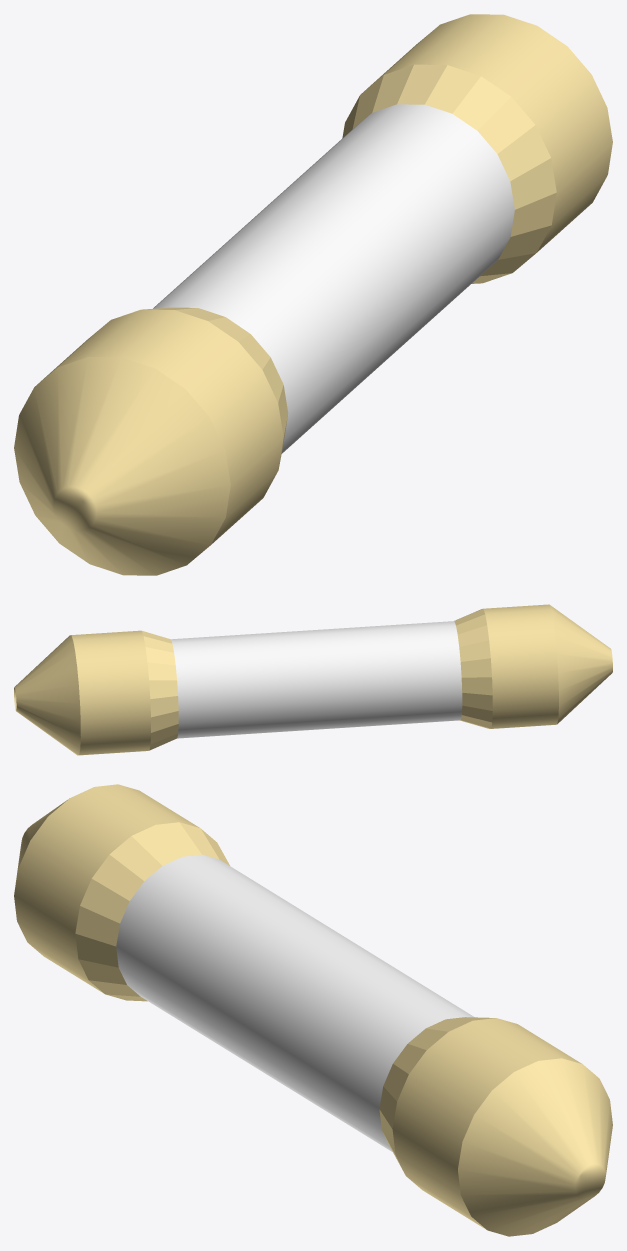
File: fuse.fbx
The picture shows the model from 3 angles, top to bottom: view 1: azimuth 30°, elevation 25°; view 2: azimuth 150°, elevation 25°; view 3: azimuth 270°, elevation 25°; orthographic projection. The views are drawn at different scales.
Visible parts, largest first — view 1: fuse; view 2: fuse; view 3: fuse.
Boxes of the visible parts, box(x1,y1,x2,y2) form: fuse: box(14, 14, 612, 575); fuse: box(14, 604, 612, 755); fuse: box(14, 784, 612, 1236).
Size of the model in its own units: 3.32 by 0.8811 by 2.53.
